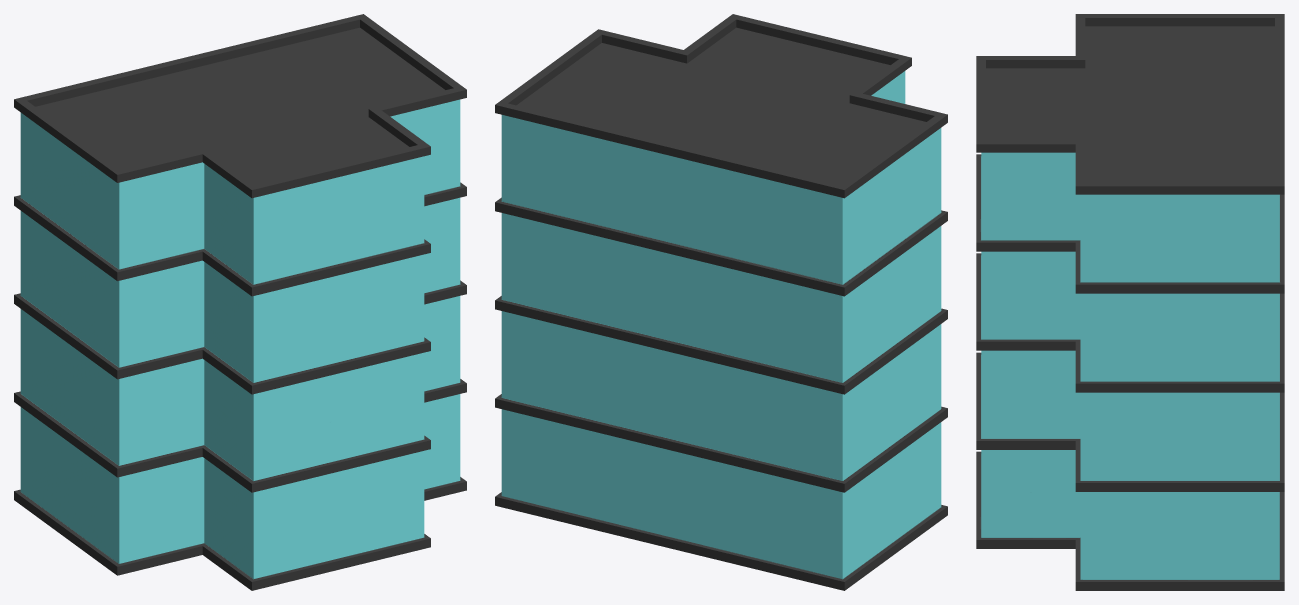
The model's file is LargMedt.fbx.
The picture shows the model from 3 angles, left to right: view 1: azimuth 30°, elevation 25°; view 2: azimuth 150°, elevation 25°; view 3: azimuth 270°, elevation 25°; orthographic projection.
Visible parts, largest first — view 1: LargMedtShape; view 2: LargMedtShape; view 3: LargMedtShape.
Part boxes in pixels (x1,y1,x2,y2): LargMedtShape: (14, 14, 466, 590); LargMedtShape: (495, 14, 947, 590); LargMedtShape: (976, 14, 1284, 590).
Size of the model in its own units: 8.2 by 8.98 by 6.2.
